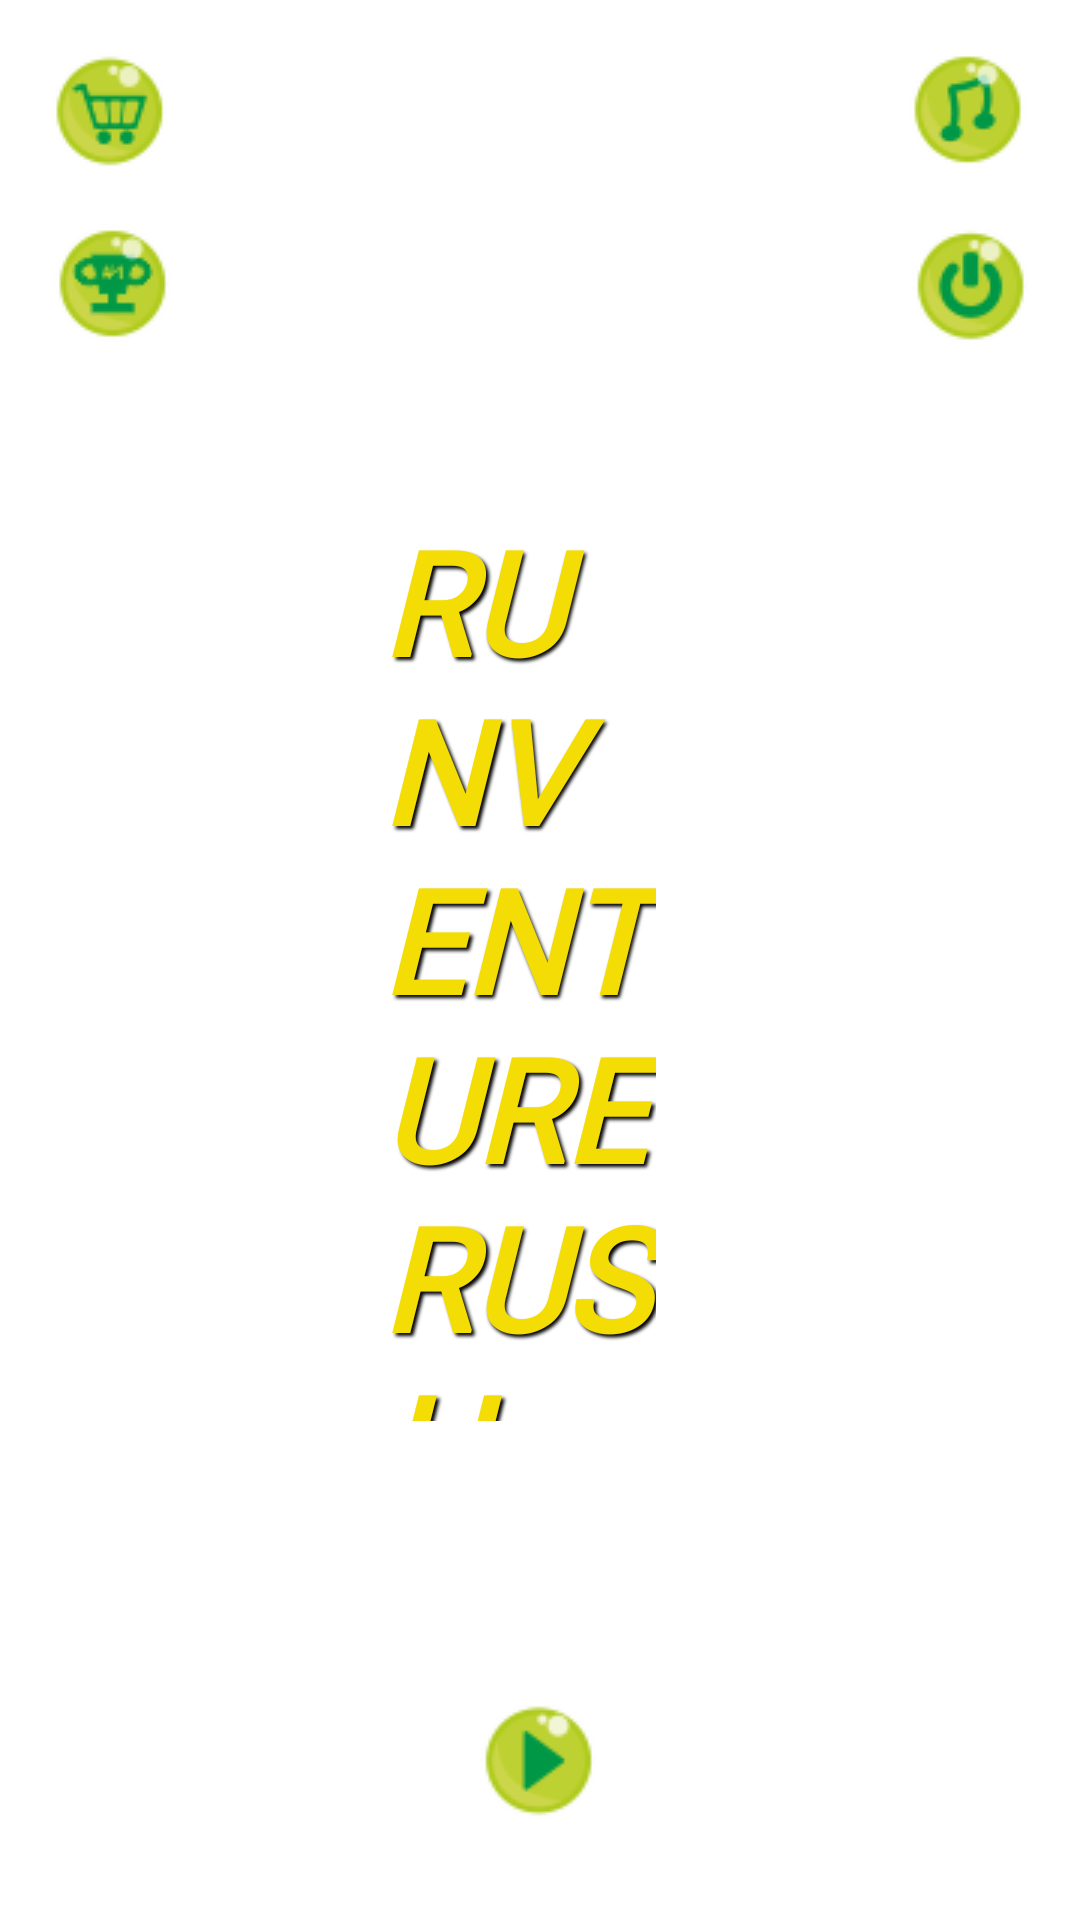

Screen size 1080 x 1920. Icon name, then its center in pixels as point (x, y):
leaderboard: point (112, 283)
music: point (967, 109)
play: point (538, 1761)
store: point (109, 111)
